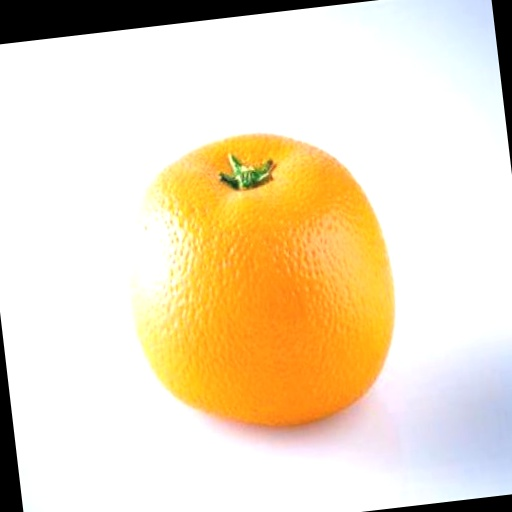fruit: (128, 134, 393, 425)
